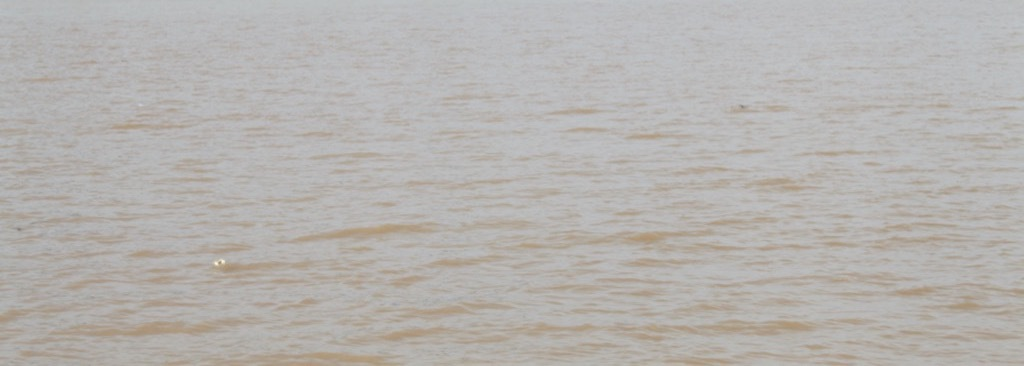plastic: (196, 250, 238, 283)
